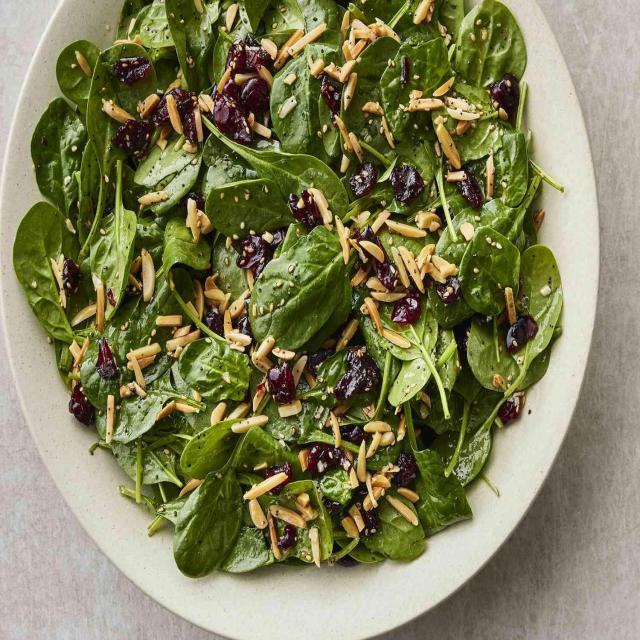Spinach: (17, 0, 580, 573)
